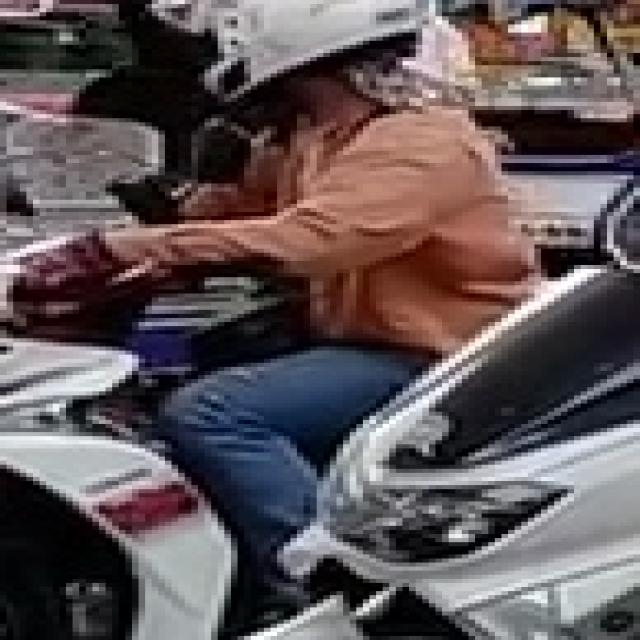helmet: (145, 0, 436, 102)
